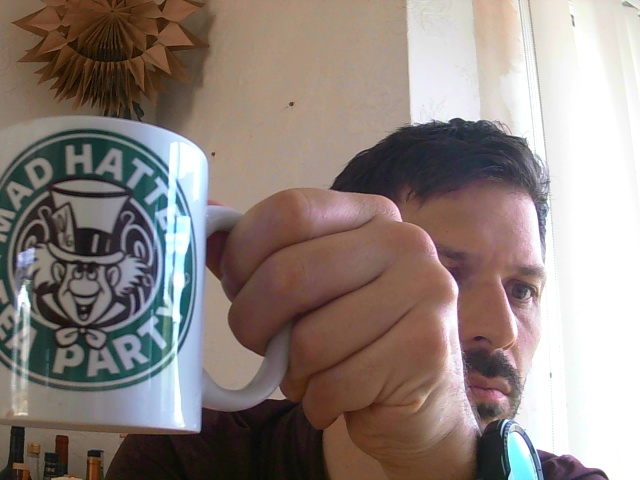mug: (1, 114, 210, 437)
